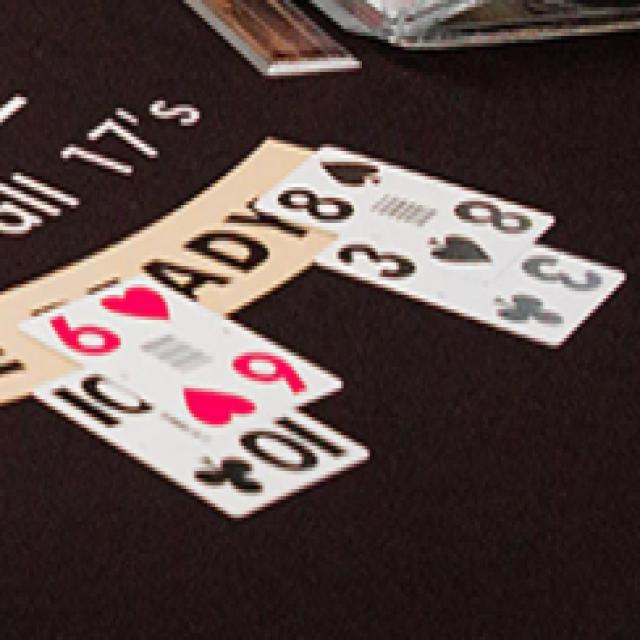Card-10: (33, 369, 370, 519)
Card-3: (315, 238, 626, 348)
Card-6: (16, 272, 343, 444)
Card-8: (254, 142, 554, 282)
